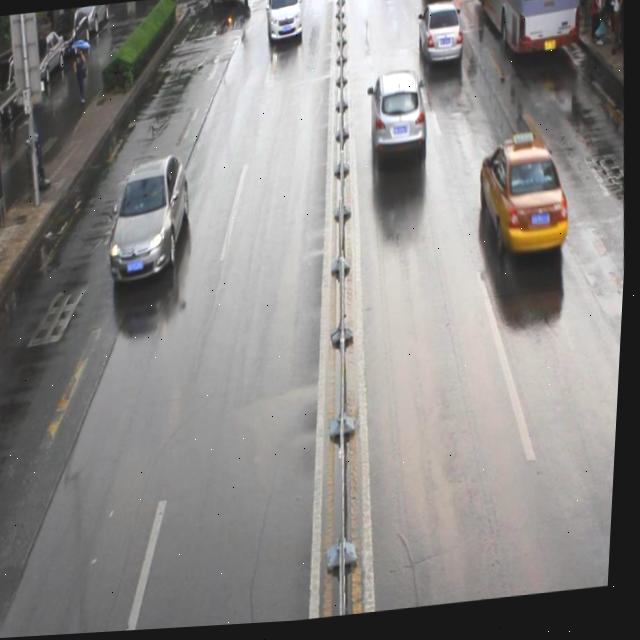car: (476, 137, 575, 267), (106, 156, 196, 285), (368, 74, 430, 165), (416, 3, 465, 71), (263, 0, 305, 45), (203, 0, 252, 8)
van: (468, 0, 583, 64)
